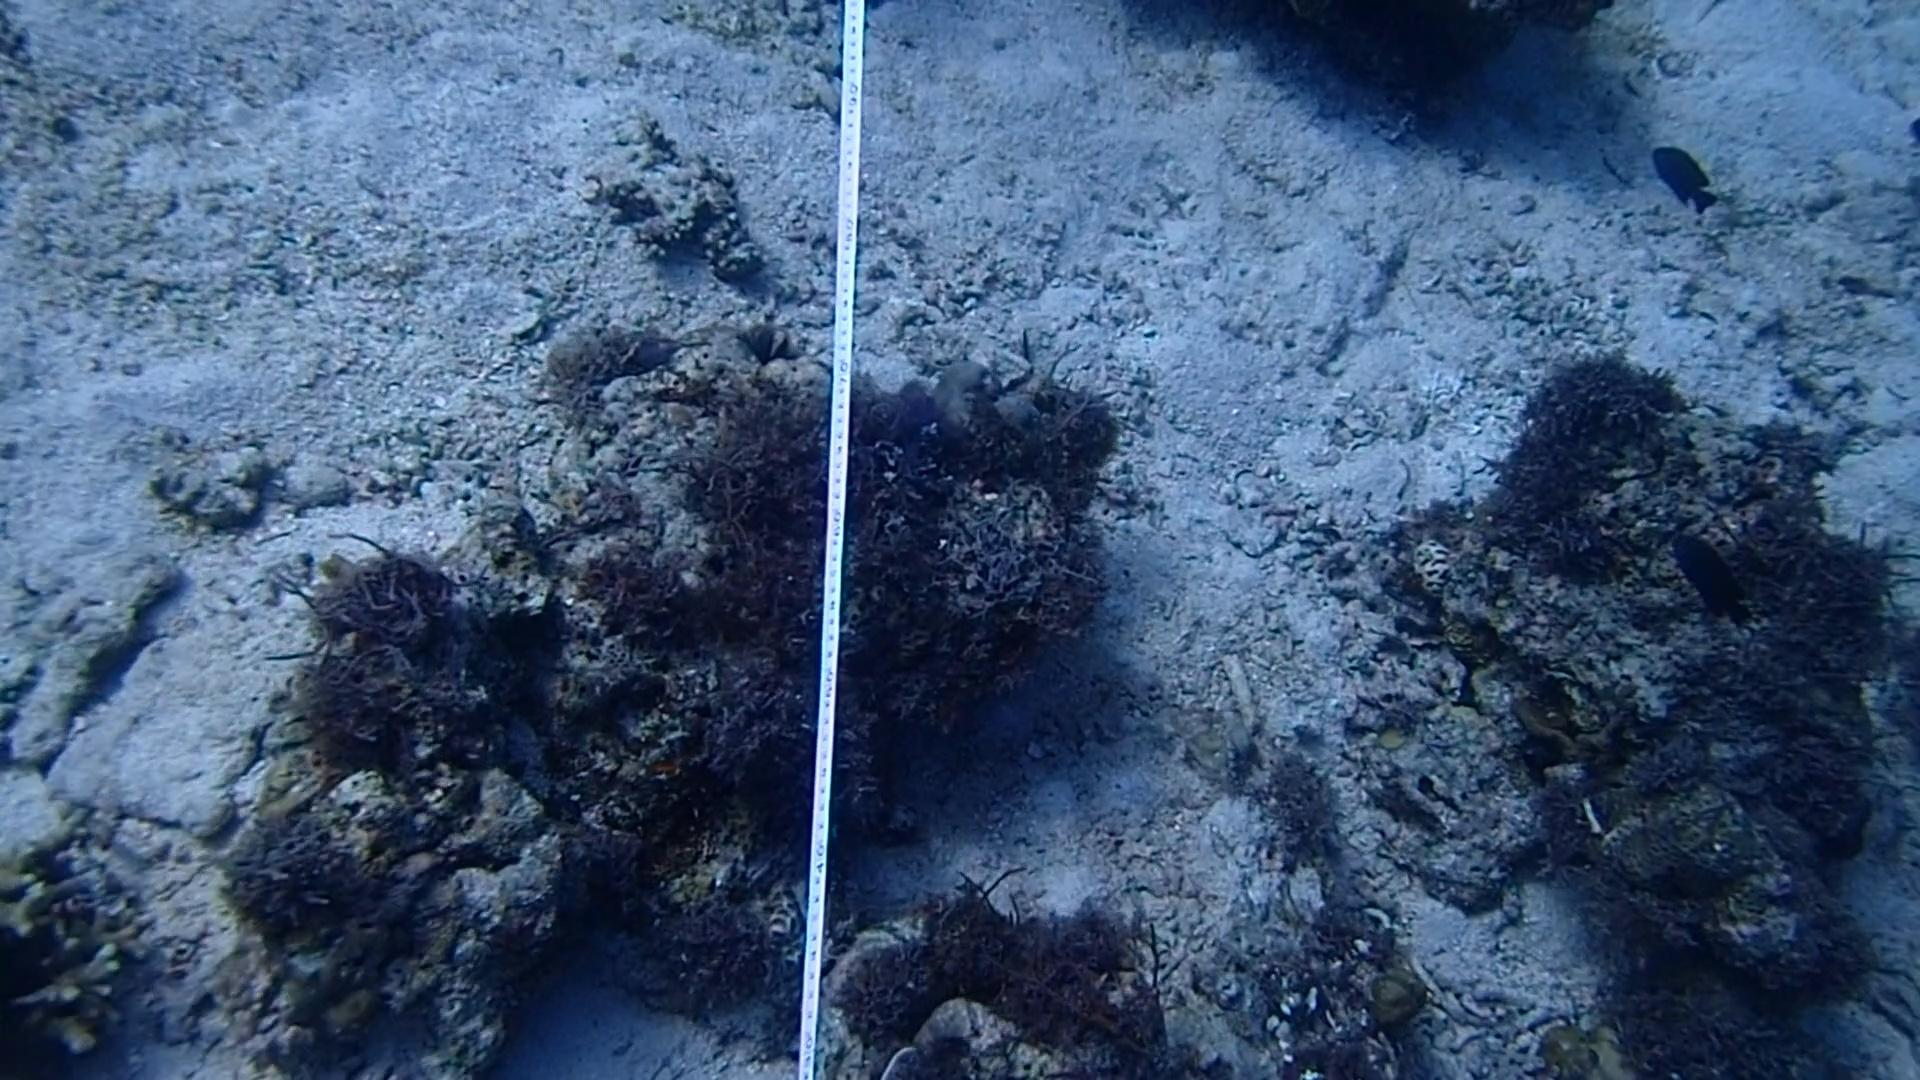Dark Fish: (1672, 522, 1758, 630), (1640, 141, 1722, 228)
